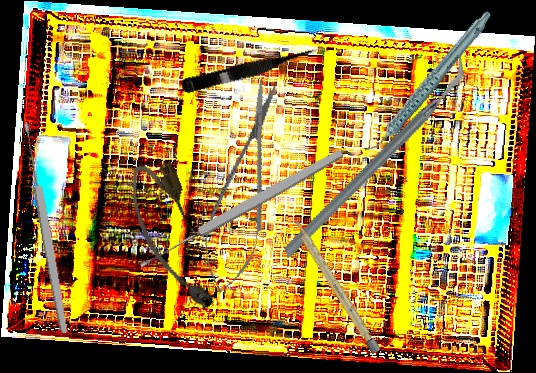Cannula: (120, 155, 224, 320)
Chopper: (241, 54, 509, 261)
Handpiece: (339, 8, 516, 156)
Micro Scissor: (193, 75, 295, 299), (180, 42, 322, 98)
Scalpel Handle: (290, 217, 381, 355)
Surgical Spoon: (137, 147, 345, 271), (21, 122, 70, 334)
